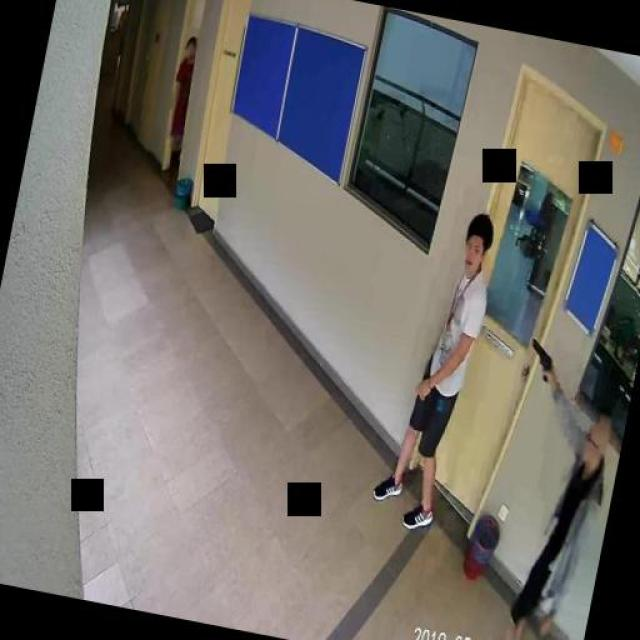gun: (522, 336, 558, 382)
